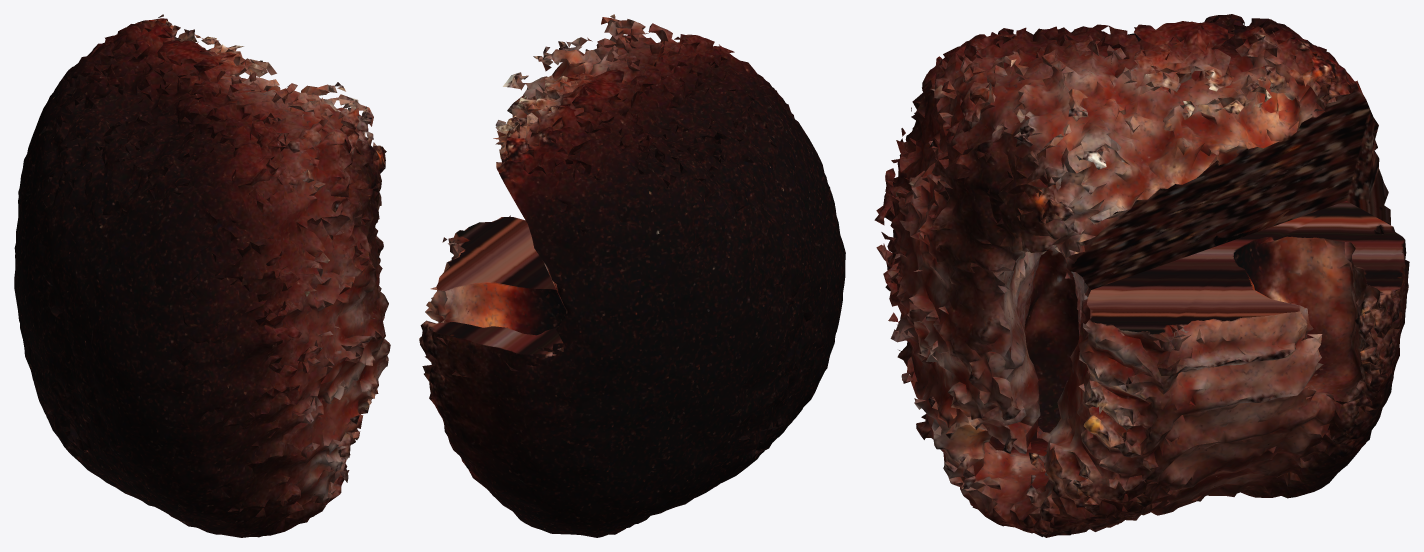
The model's file is cake_after.glb.
3 views of the same model, side by side, from view 1: azimuth 30°, elevation 25°; view 2: azimuth 150°, elevation 25°; view 3: azimuth 270°, elevation 25° (orthographic). The views are drawn at different scales.
Parts seen in each view (by area): view 1: pose1; view 2: pose1; view 3: pose1.
Part boxes in pixels (bbox=[...]): pose1: bbox=[14, 14, 390, 537]; pose1: bbox=[419, 14, 845, 537]; pose1: bbox=[874, 14, 1409, 537].
Bounding box in the file's own units: 0.669 × 0.8343 × 0.8291.
1 material, 1 textured.
